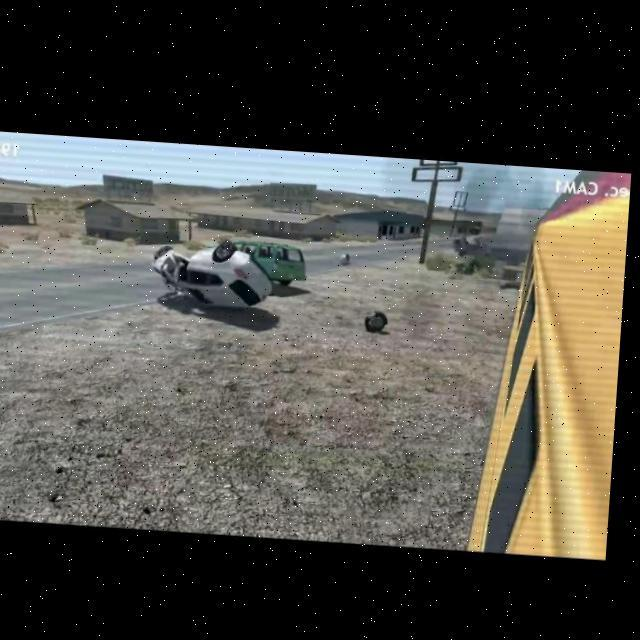multiple_accident: (140, 217, 315, 338)
